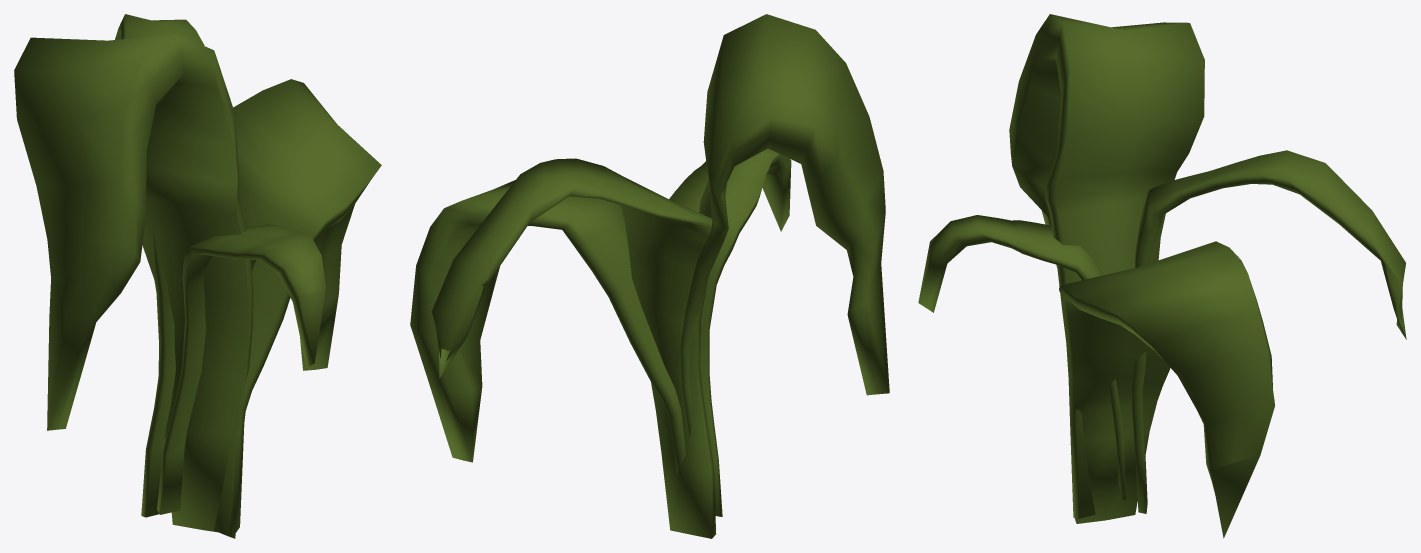
Rendered from AnxiousPlant.fbx.
3 views of the same model, side by side, from view 1: azimuth 30°, elevation 25°; view 2: azimuth 150°, elevation 25°; view 3: azimuth 270°, elevation 25° (orthographic). The views are drawn at different scales.
Parts seen in each view (by area): view 1: PlantAnxious; view 2: PlantAnxious; view 3: PlantAnxious.
Boxes of the visible parts, x1,y1,x2,y2 form: PlantAnxious: (14, 14, 381, 538); PlantAnxious: (410, 14, 889, 538); PlantAnxious: (918, 14, 1406, 538).
Bounding box in the file's own units: 26.68 × 34.85 × 32.66.
